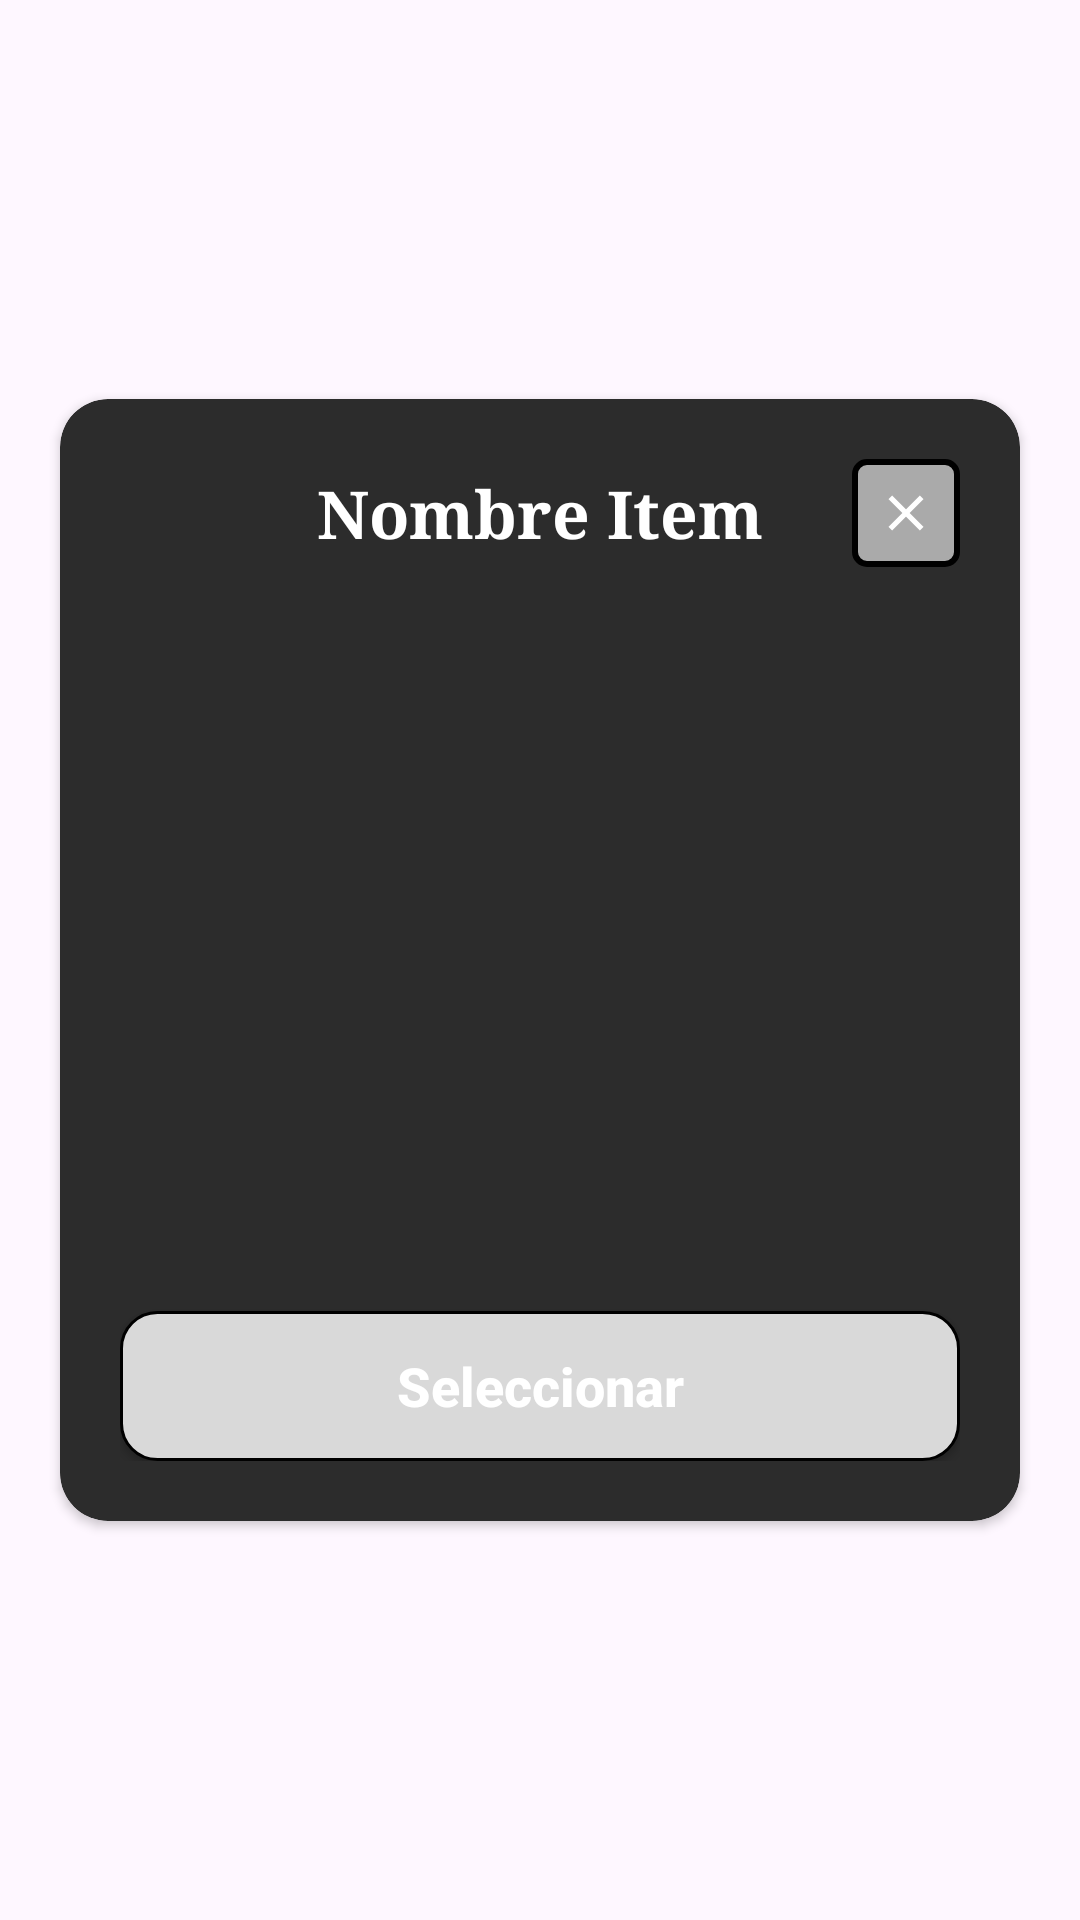

Point at icon controls on the screen. Image size 1080x1920, points as point (x, y).
cerrar: point (906, 513)
